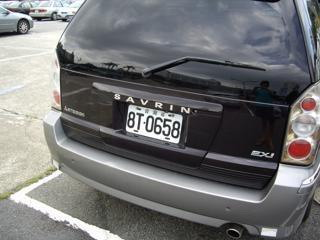plate: (125, 104, 183, 144)
